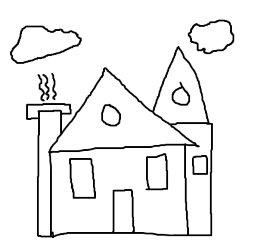clouds: (10, 25, 83, 65), (187, 18, 233, 55)
door: (105, 184, 140, 239)
open_window: (67, 157, 95, 199), (145, 153, 168, 189), (191, 155, 209, 174)
roof: (48, 64, 200, 152)
smoking_chimney: (22, 70, 75, 153)
wall: (47, 137, 193, 239)
